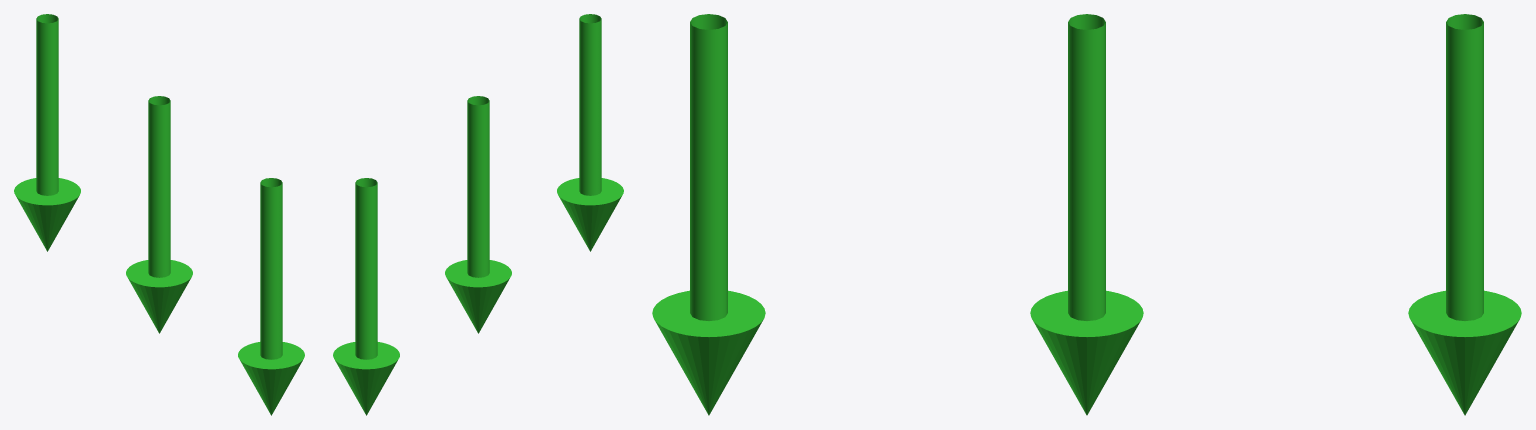
File: DCblmgf.glb
The picture shows the model from 3 angles, left to right: view 1: azimuth 30°, elevation 25°; view 2: azimuth 150°, elevation 25°; view 3: azimuth 270°, elevation 25°; orthographic projection. The views are drawn at different scales.
Visible parts, largest first — view 1: NURBSパス.001, NURBSパス.003, NURBSパス.002, 円錐.002, 円錐.003, 円錐.001; view 2: NURBSパス.002, NURBSパス.003, NURBSパス.001, 円錐.001, 円錐.003, 円錐.002; view 3: NURBSパス.003, NURBSパス.002, NURBSパス.001, 円錐.002, 円錐.001, 円錐.003.
Part boxes in pixels (x1,y1,x2,y2): NURBSパス.001: (36,14,58,195); NURBSパス.003: (148,96,170,277); NURBSパス.002: (260,178,282,359); 円錐.002: (238,342,304,415); 円錐.003: (126,260,192,333); 円錐.001: (14,178,80,251); NURBSパス.002: (579,14,601,195); NURBSパス.003: (467,96,489,277); NURBSパス.001: (355,178,377,359); 円錐.001: (333,342,399,415); 円錐.003: (445,260,511,333); 円錐.002: (557,178,623,251); NURBSパス.003: (1068,14,1105,320); NURBSパス.002: (690,14,727,320); NURBSパス.001: (1446,14,1483,320); 円錐.002: (652,290,765,415); 円錐.001: (1408,290,1521,415); 円錐.003: (1030,290,1143,415).
Bounding box in the file's own units: 0.3 × 1.15 × 2.3.
